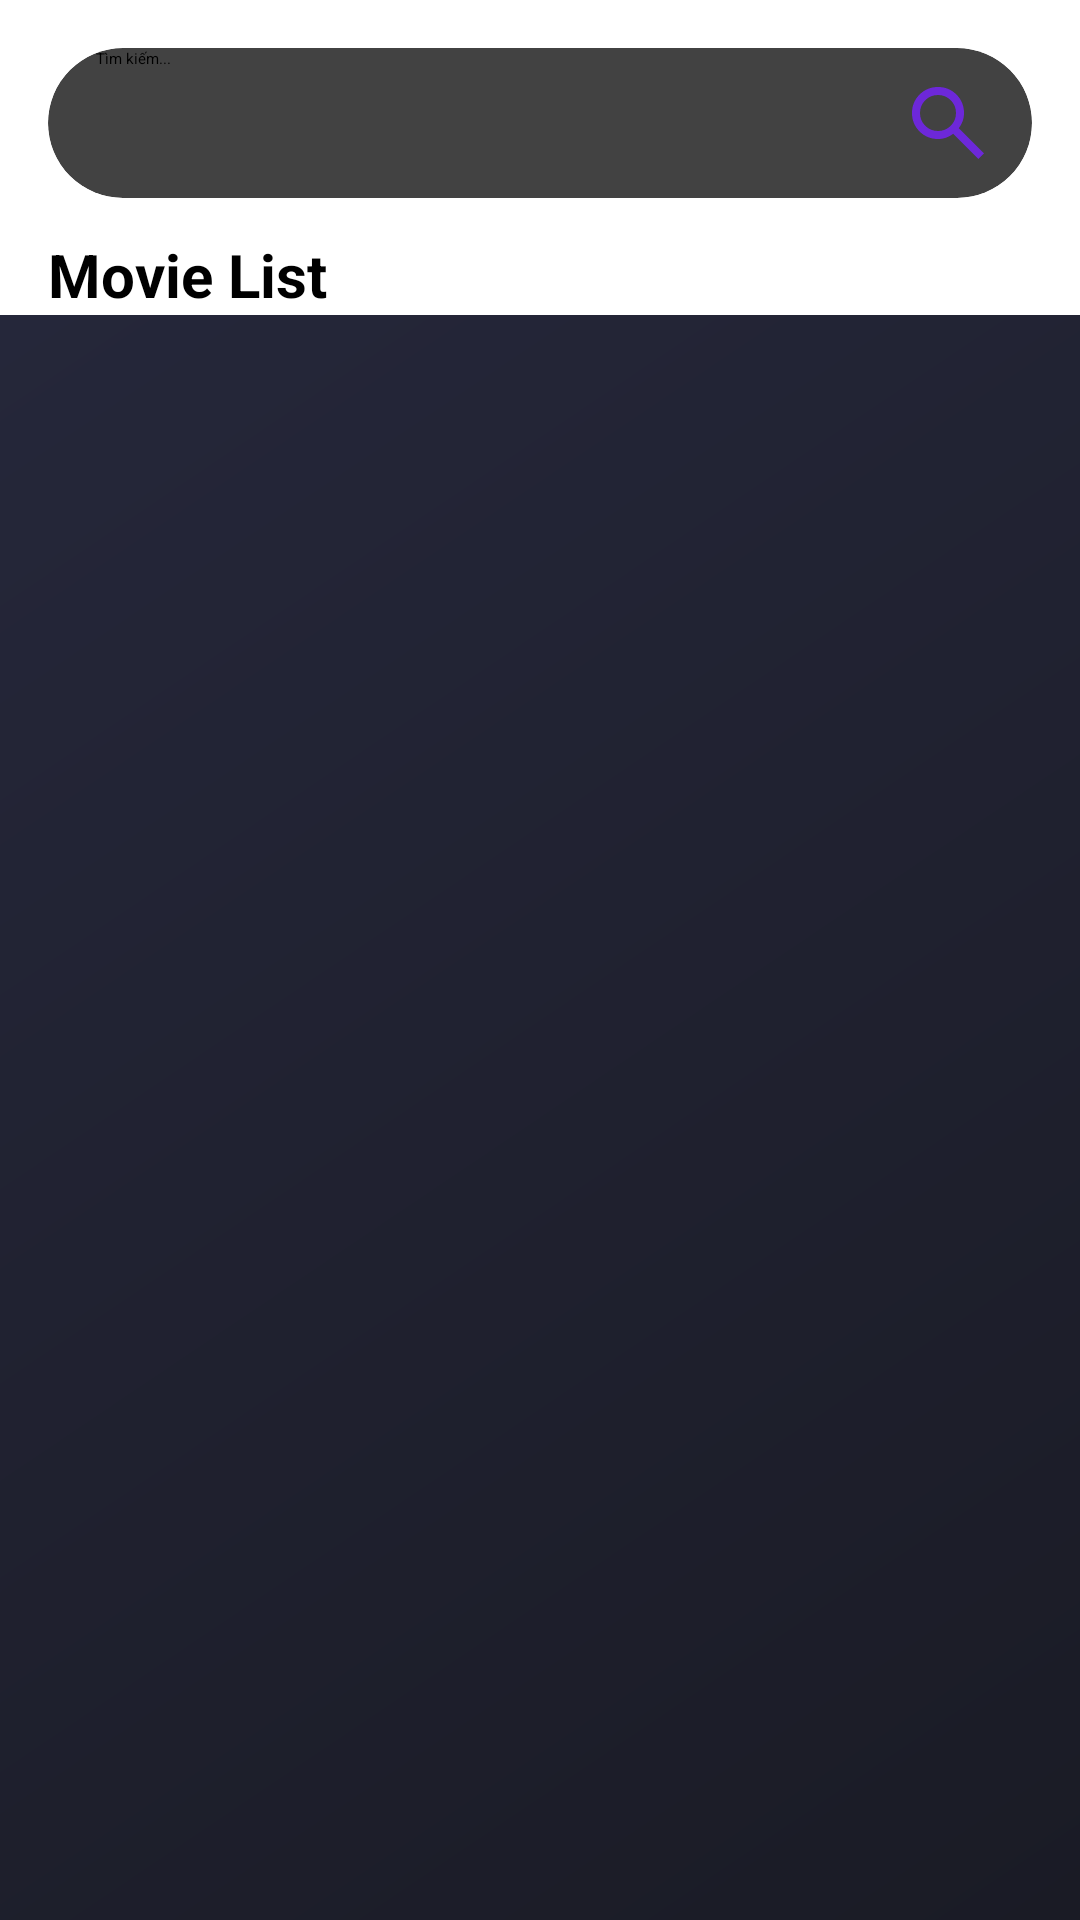

Where icons sit on this 1080w x 1920h app screen, as (x1=x1, y1=y1, x2=x2, y2=y2):
search: (x1=912, y1=87, x2=984, y2=159)
